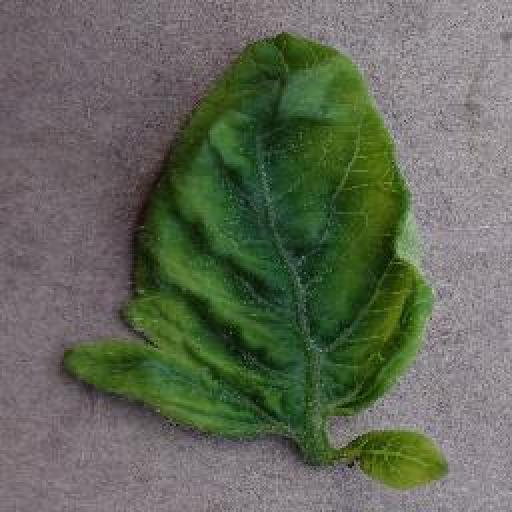Yellow Leaf Curl Virus: (60, 33, 436, 439)
